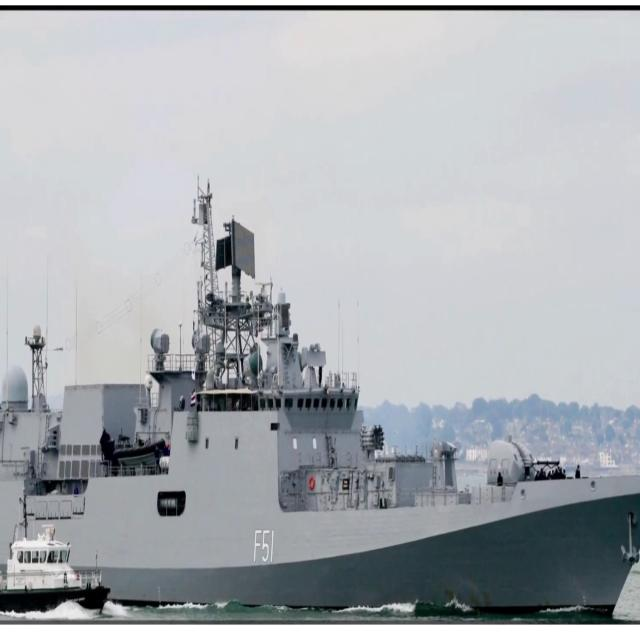OCR: (248, 521, 282, 573)
